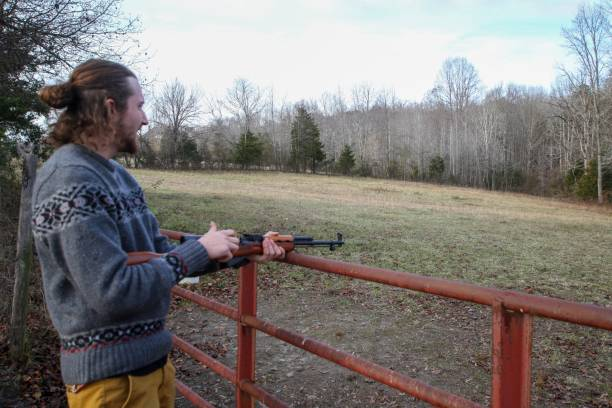gun: (122, 228, 347, 267)
